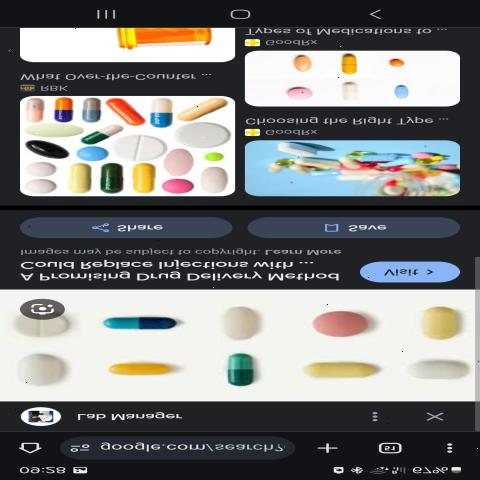Pill: (216, 296, 303, 347), (102, 352, 218, 390), (404, 290, 480, 343), (98, 302, 197, 340), (13, 349, 85, 394), (300, 354, 393, 388), (402, 350, 480, 390), (213, 349, 278, 394), (20, 311, 79, 343)
